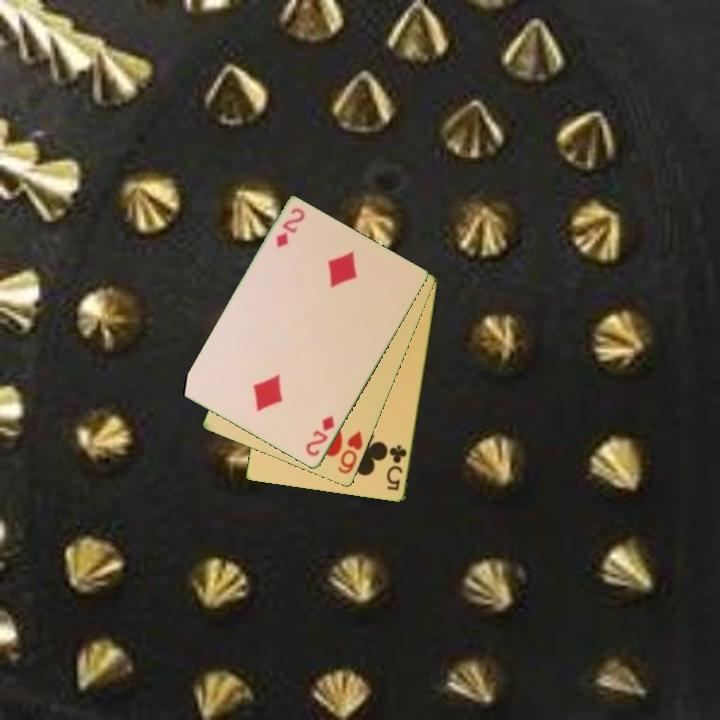2d: (302, 413, 338, 460), (272, 205, 308, 251)
5c: (383, 442, 410, 494)
6h: (335, 427, 366, 477)
